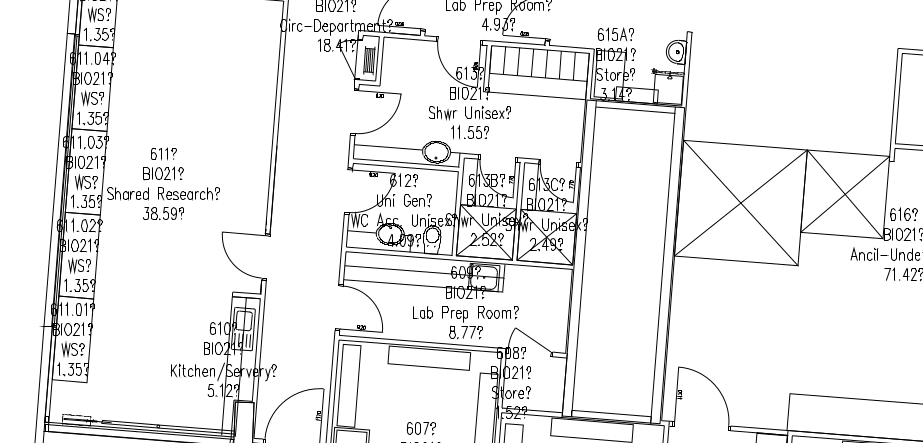door: (261, 376, 327, 443), (673, 360, 737, 426), (205, 220, 269, 286), (333, 281, 392, 334), (345, 87, 404, 140), (342, 168, 399, 215), (435, 36, 480, 95), (539, 157, 576, 205), (479, 154, 516, 202)
